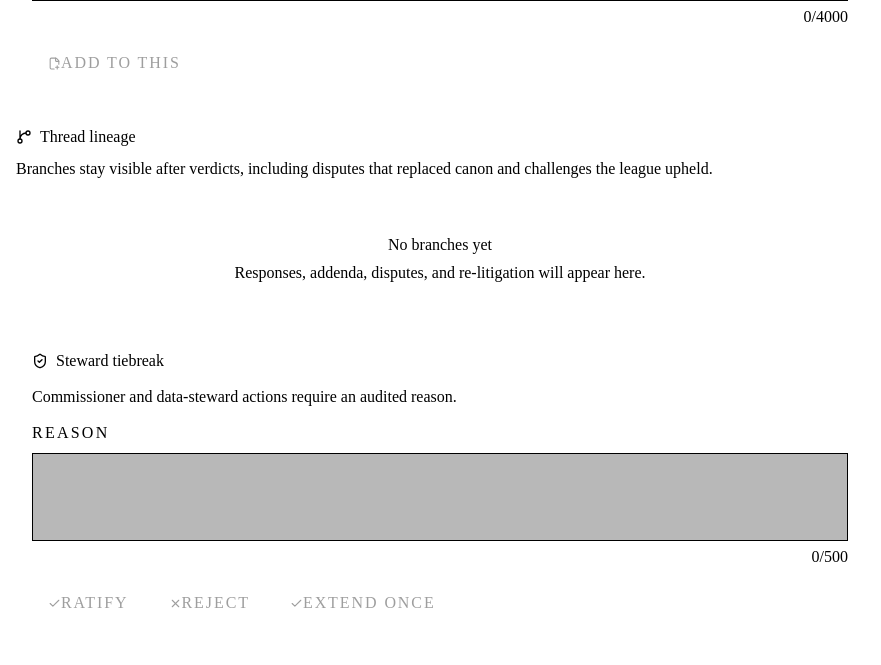
Test: LeagueLoreClaimView › sends steward tiebreak actions with an audited reason
The width and height of the screenshot is (881, 665).
(page scrolled)
Type "Affirm leads and the group has clearly weighed in." into the text box labelled "Reason" at (440, 497), box [32, 453, 848, 541]
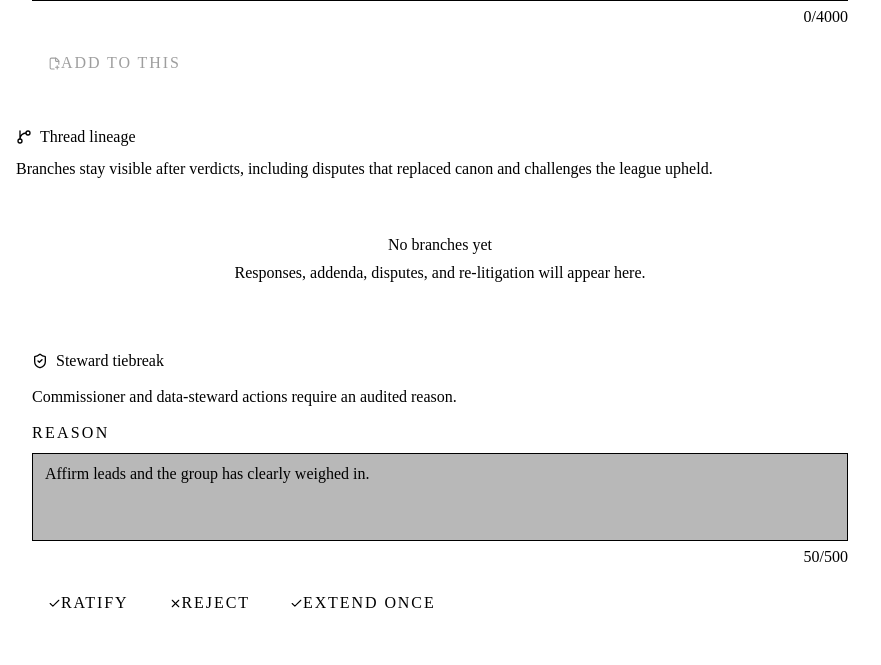
Click the button "Ratify" at (88, 603), box [32, 581, 144, 625]
(page scrolled)
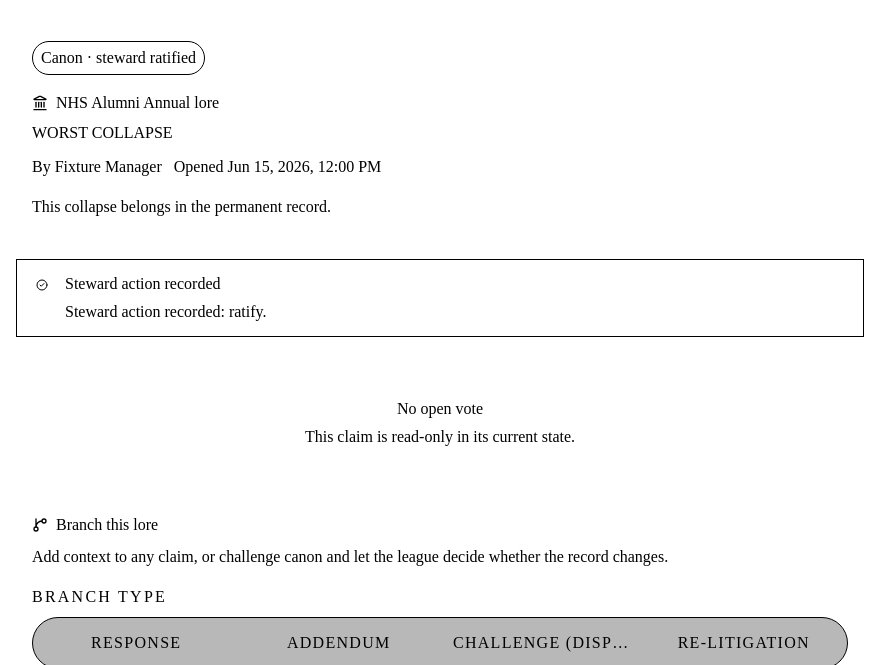
Check: the text "Steward action recorded: ratify." is shown, box [65, 303, 266, 320]
Check: the text "Canon · steward ratified" is shown, box [32, 41, 205, 75]
